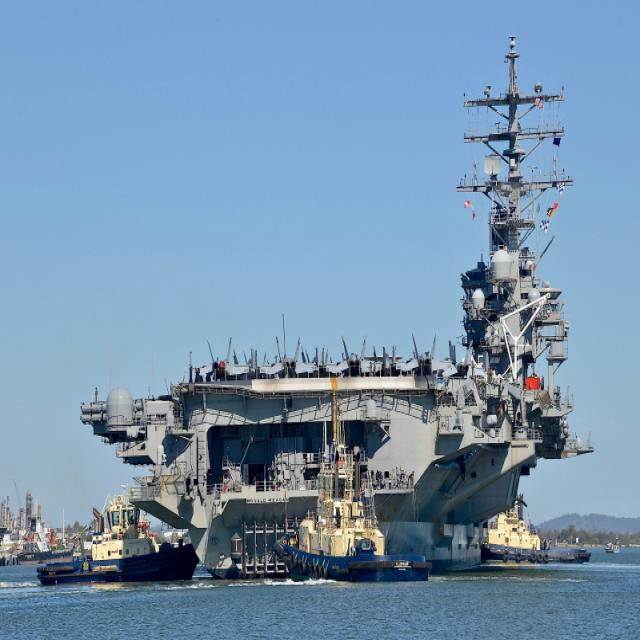Portanaves: (79, 3, 590, 574)
